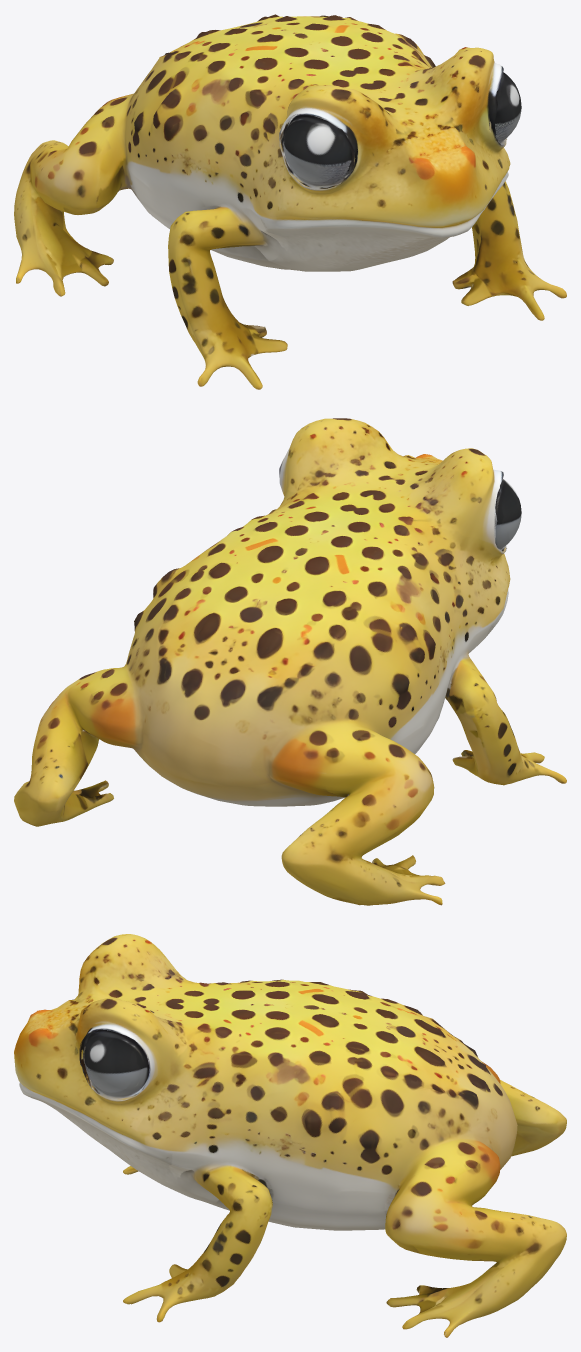
File: kihansiSprayToad.glb
3 renders of one model, top to bottom at view 1: azimuth 30°, elevation 25°; view 2: azimuth 150°, elevation 25°; view 3: azimuth 270°, elevation 25°, orthographic. The views are drawn at different scales.
Parts seen in each view (by area): view 1: model; view 2: model; view 3: model.
Boxes of the visible parts, <box> form: model: <box>14,14,566,389</box>; model: <box>14,418,566,905</box>; model: <box>14,934,566,1337</box>.
Bounding box in the file's own units: 1.43 × 0.93 × 1.72.
1 material, 1 textured.
